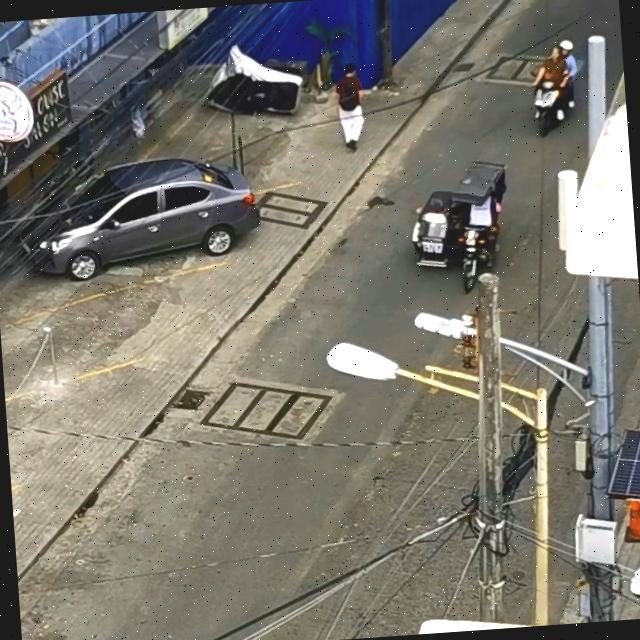Tricycle: (402, 147, 525, 310)
